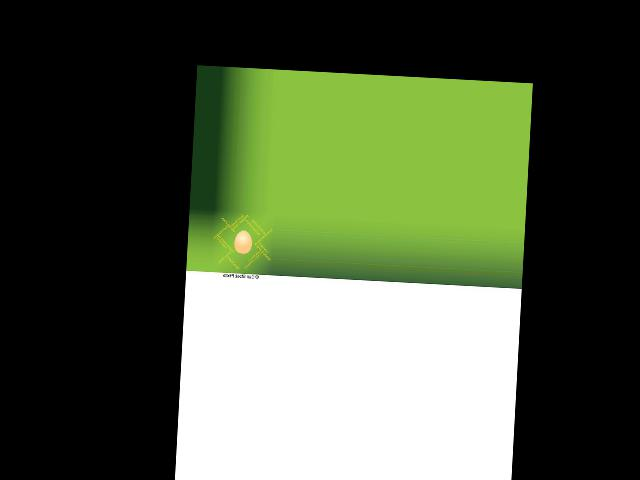egg: (233, 229, 252, 254)
